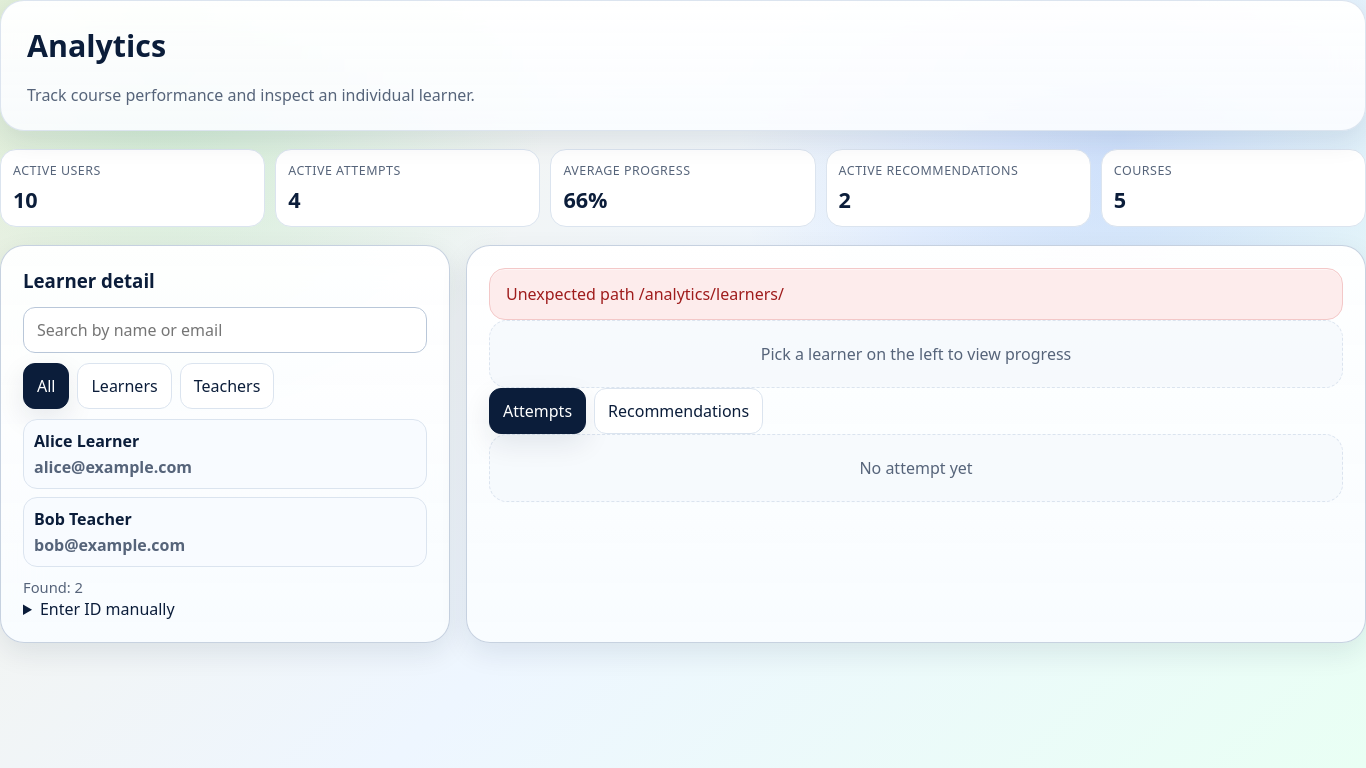
Test: AnalyticsPage › filters learners with search
Type "alice" into the field with placeholder "Search by name or email". click: coordinates (225, 330)
box: x1=23 y1=307 x2=427 y2=353
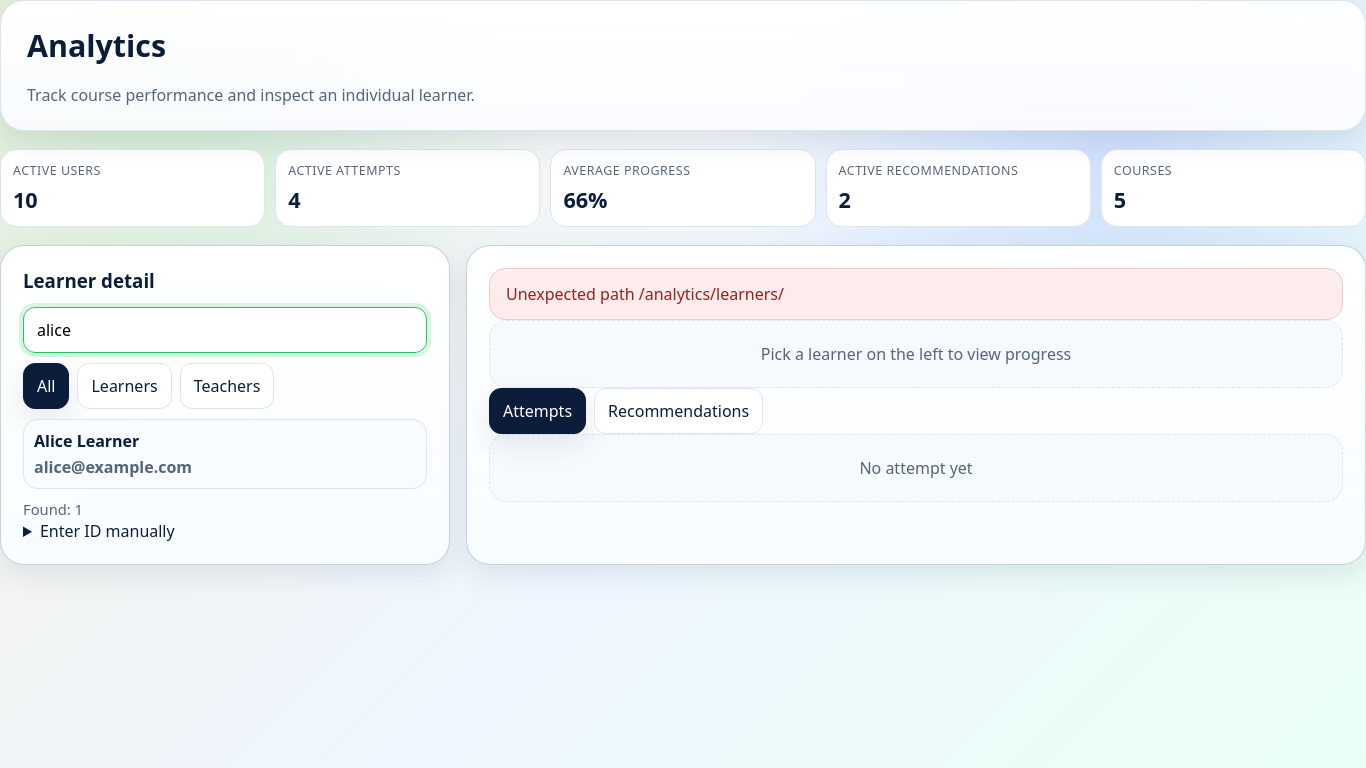
Expected: the text "Alice Learner" is shown, x1=34 y1=430 x2=139 y2=452
Expected: the button "Bob Teacher" is gone
